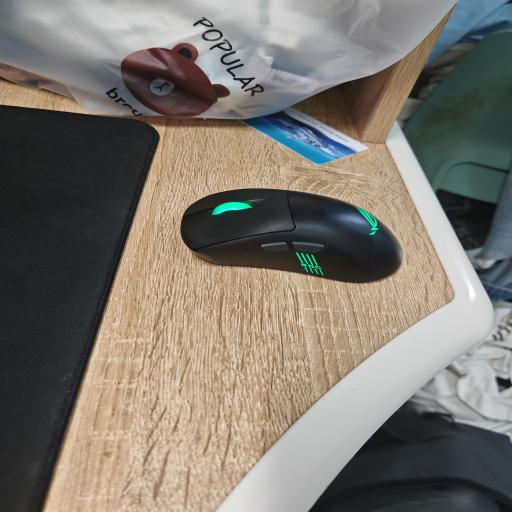mouse: (181, 189, 402, 282)
